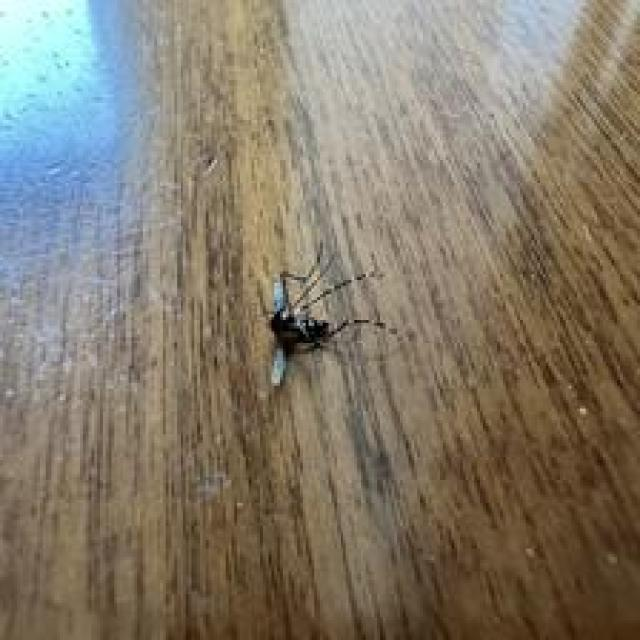Aedes albopictus: (262, 241, 387, 390)
